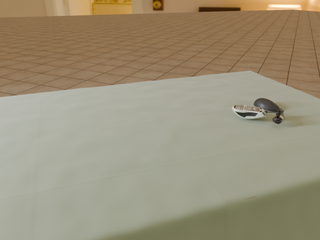mouse: (232, 105, 268, 119), (254, 98, 280, 112)
